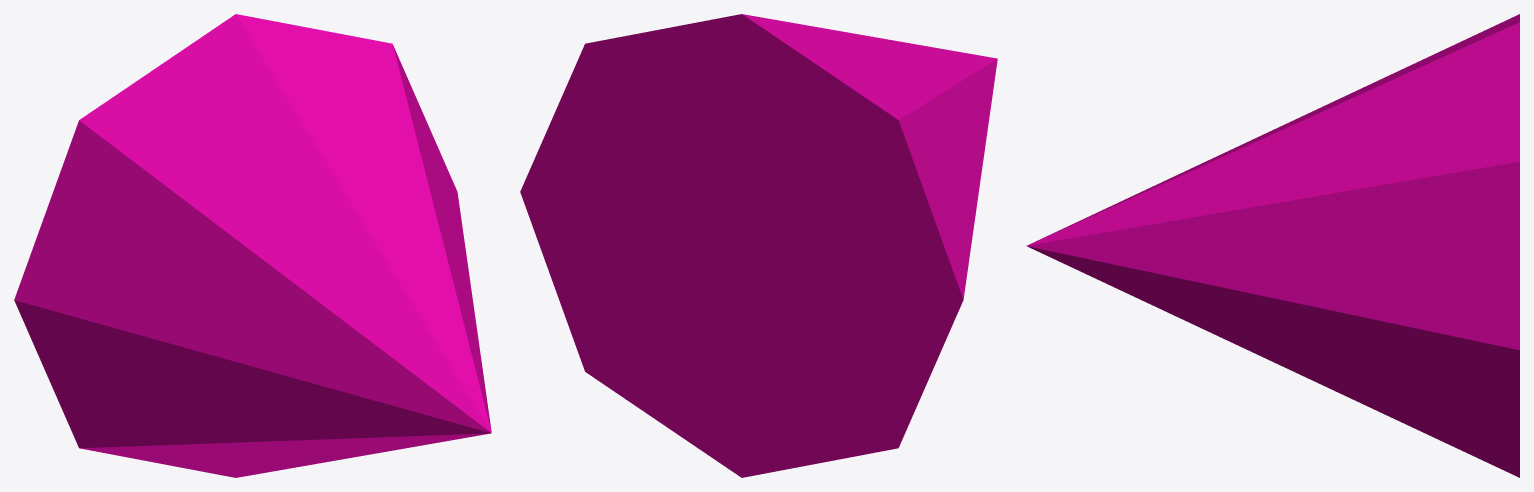
Rendered from Luminorine.glb.
3 renders of one model, left to right at view 1: azimuth 30°, elevation 25°; view 2: azimuth 150°, elevation 25°; view 3: azimuth 270°, elevation 25°, orthographic. The views are drawn at different scales.
Parts seen in each view (by area): view 1: Luminorine; view 2: Luminorine; view 3: Luminorine.
Boxes of the visible parts, x1,y1,x2,y2 form: Luminorine: (14,14,491,477); Luminorine: (520,14,997,477); Luminorine: (1026,14,1519,477).
Bounding box in the file's own units: 1.6 × 1.6 × 1.6.
